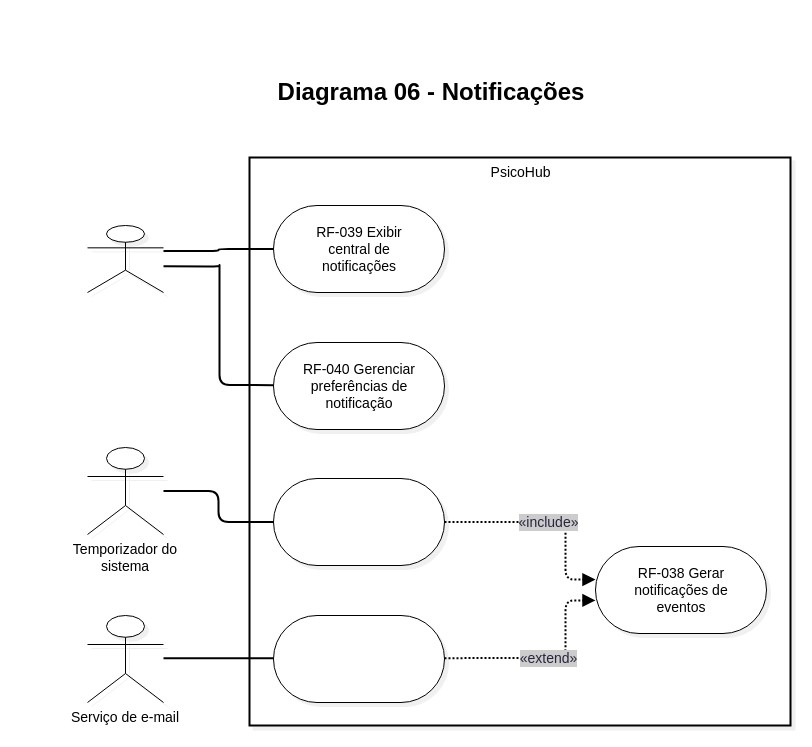
The diagram is 812 pixels wide and 747 high, and some of its shapes have lost their labels. The centre of each missing label's shape, as x and y in pixels:
"RF-041 Enviar e-mail complementar" belongs at point (360, 660).
"RF-042 Enviar lembrete de sessão" belongs at point (360, 524).
"Usuário" belongs at point (127, 260).
